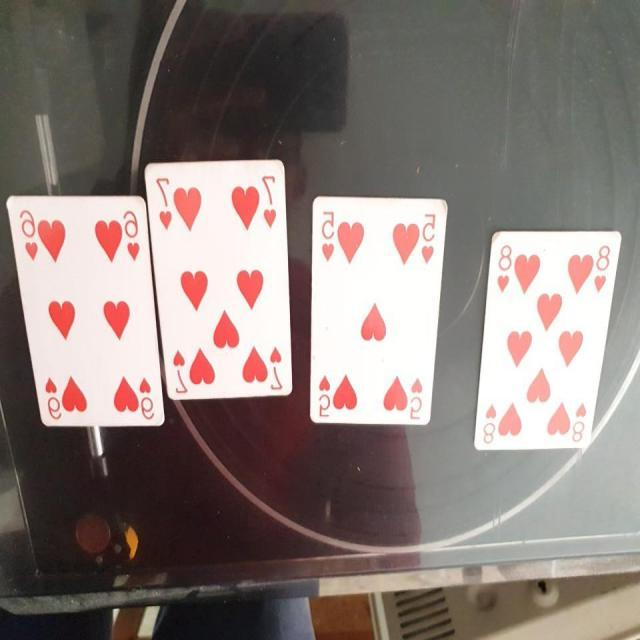5 of hearts: (308, 195, 452, 435)
6 of hearts: (2, 186, 170, 428)
7 of hearts: (140, 152, 302, 398)
8 of hearts: (464, 218, 628, 461)
